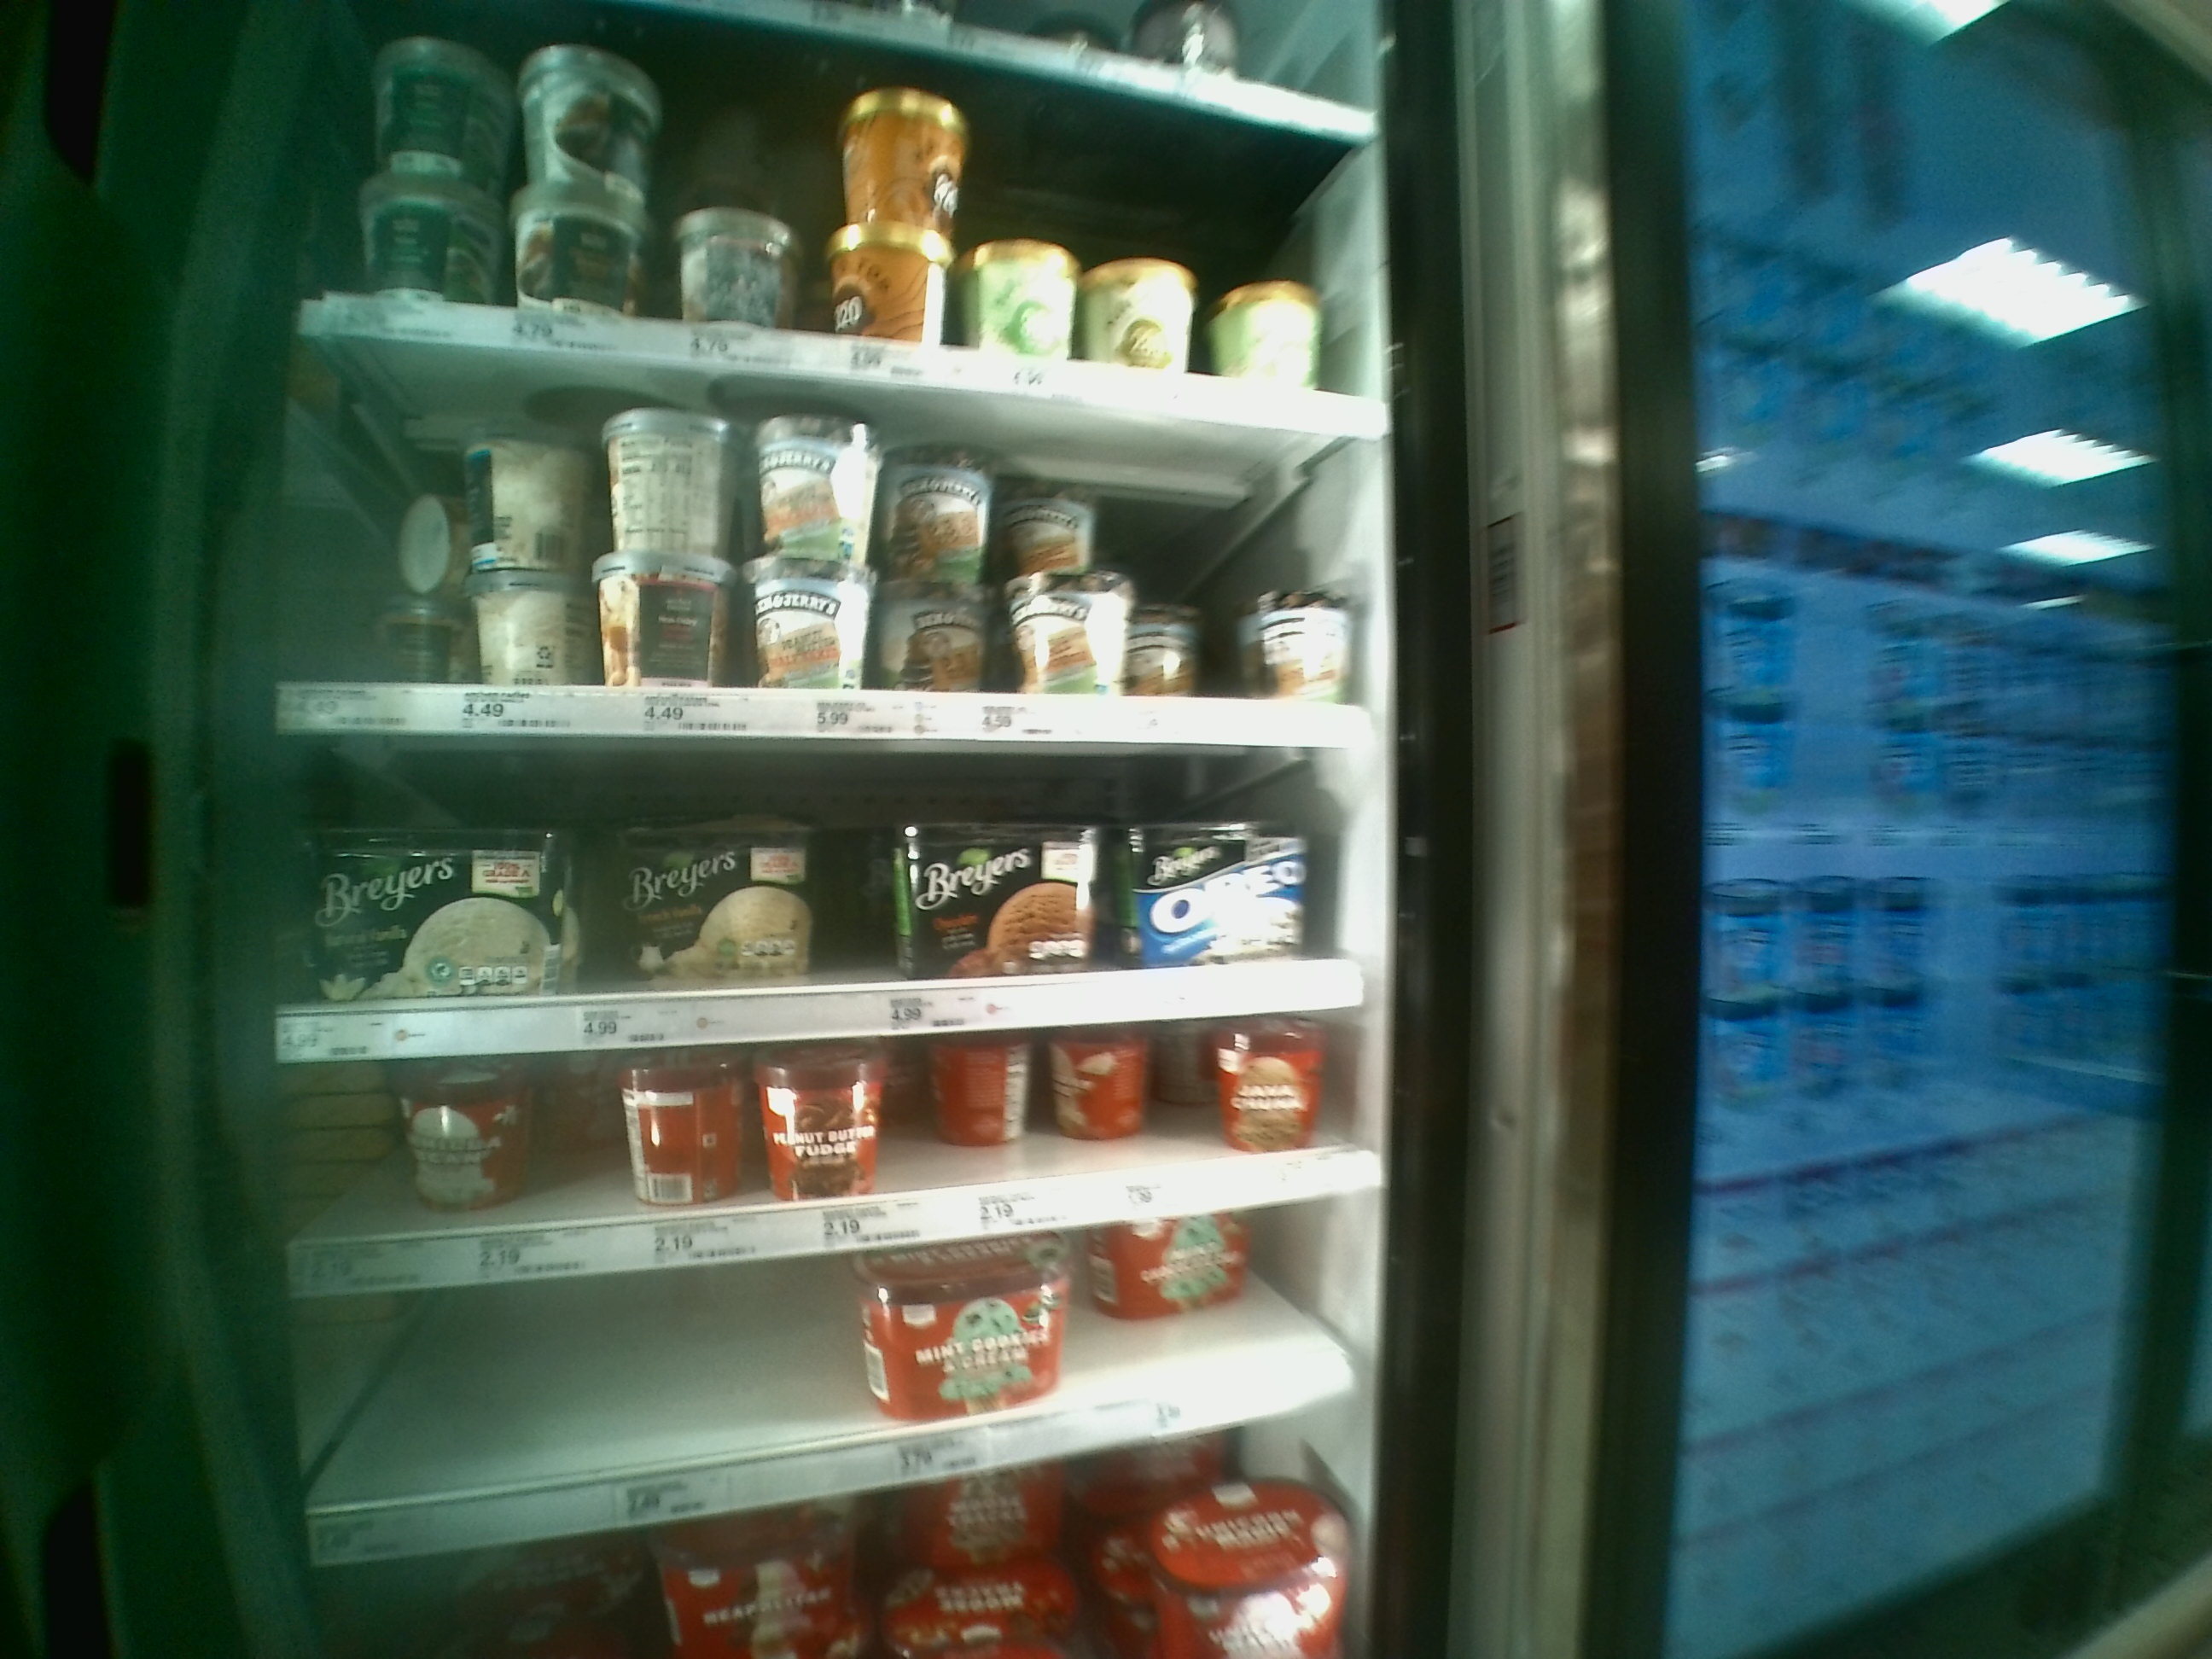shelf: (287, 401, 1374, 742), (287, 734, 1352, 1047), (284, 1063, 1381, 1272)
